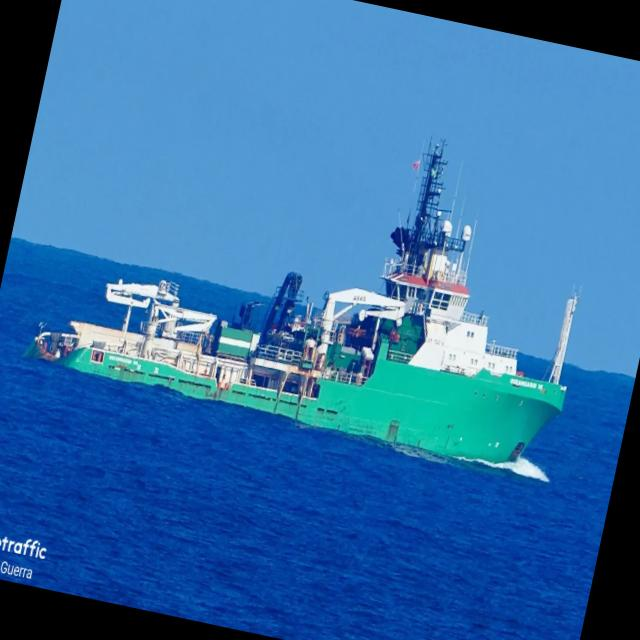Offshore: (28, 144, 575, 463)
